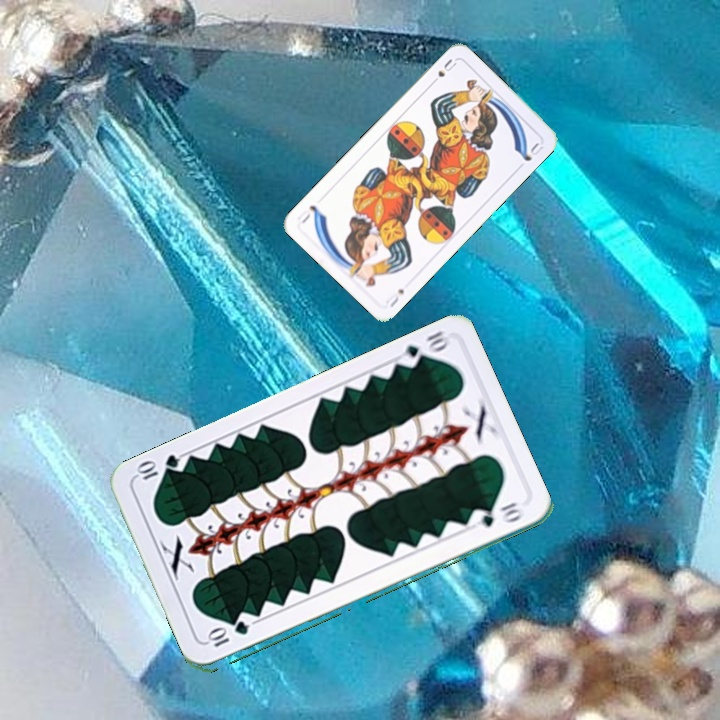G10: (394, 326, 452, 371), (204, 619, 252, 650)
SU: (426, 55, 459, 88), (381, 285, 407, 310)
